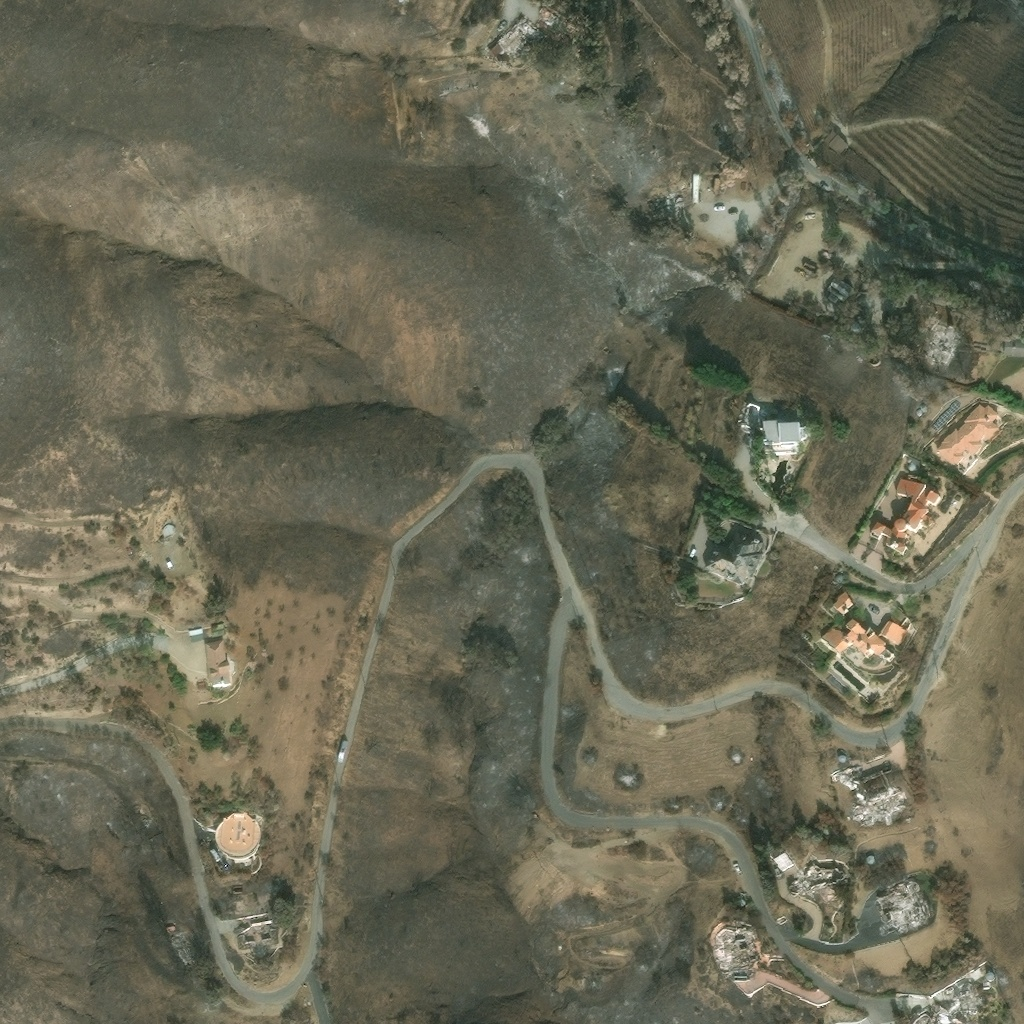0 no-damage: (869, 477, 940, 555), (934, 403, 1002, 472), (698, 523, 770, 588), (820, 617, 888, 660), (213, 814, 261, 863), (203, 636, 233, 691), (930, 399, 961, 432), (878, 618, 906, 648), (826, 275, 854, 305), (832, 591, 855, 618), (1005, 341, 1023, 358), (964, 280, 983, 296), (692, 174, 701, 204), (188, 627, 203, 637), (985, 972, 995, 982), (838, 754, 847, 764), (714, 179, 719, 194), (866, 856, 875, 864), (164, 561, 173, 569), (915, 409, 922, 417), (908, 463, 915, 471), (395, 0, 404, 4), (906, 458, 911, 463)
1 minor-damage: (773, 851, 793, 872), (211, 623, 225, 631)
2 major-damage: (736, 401, 805, 457), (160, 525, 176, 540)
3 destroyed: (486, 5, 571, 65), (842, 760, 905, 823), (874, 881, 928, 936), (787, 863, 849, 899), (718, 925, 761, 976), (234, 911, 281, 955), (925, 324, 960, 365), (650, 189, 686, 217), (921, 1003, 963, 1023), (170, 932, 194, 961), (956, 982, 975, 1011)
